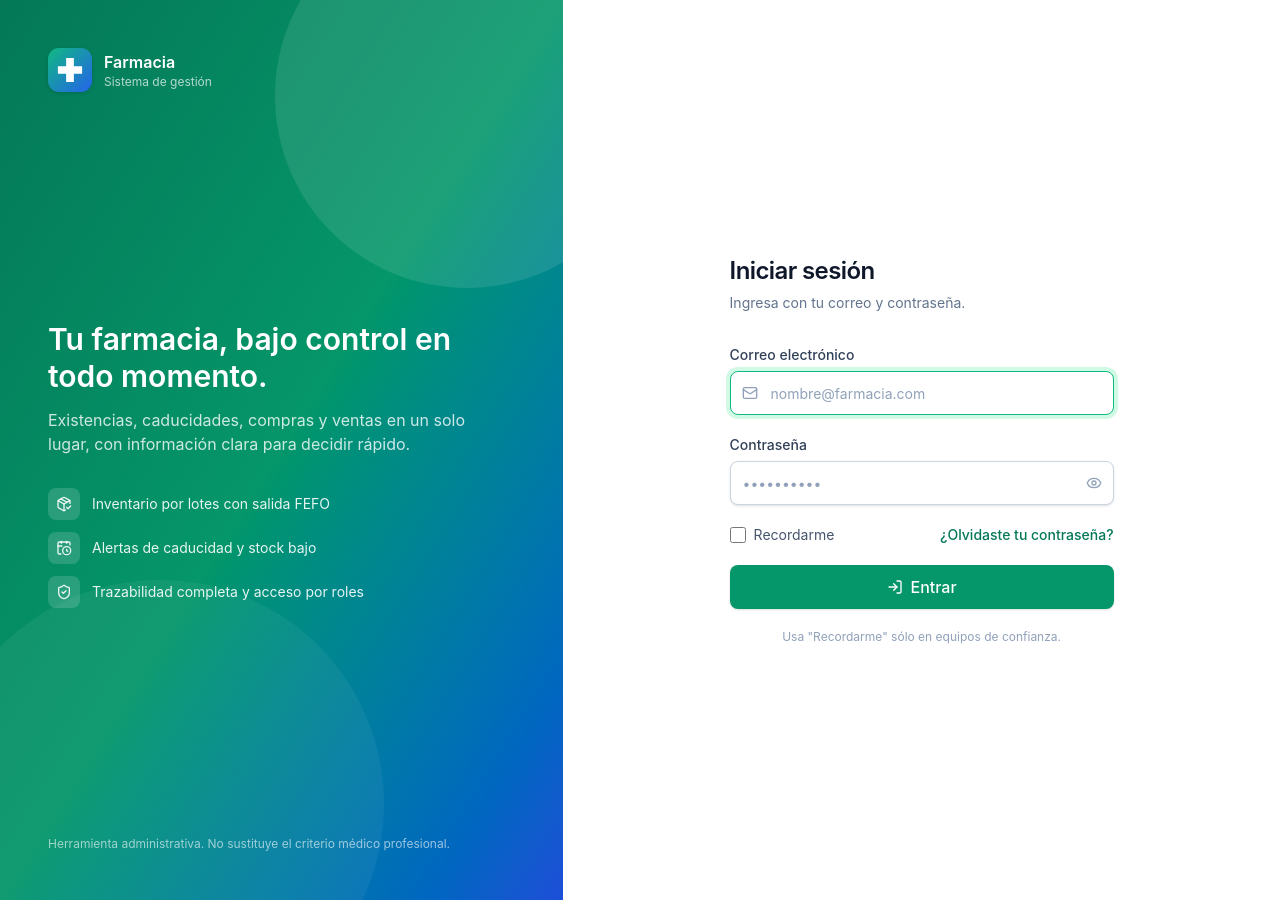
it: LoginPage › muestra el error del servidor ante credenciales incorrectas
Type "doc@test.local" into the field labelled "Correo electrónico" at (922, 393), box [730,371,1114,415]
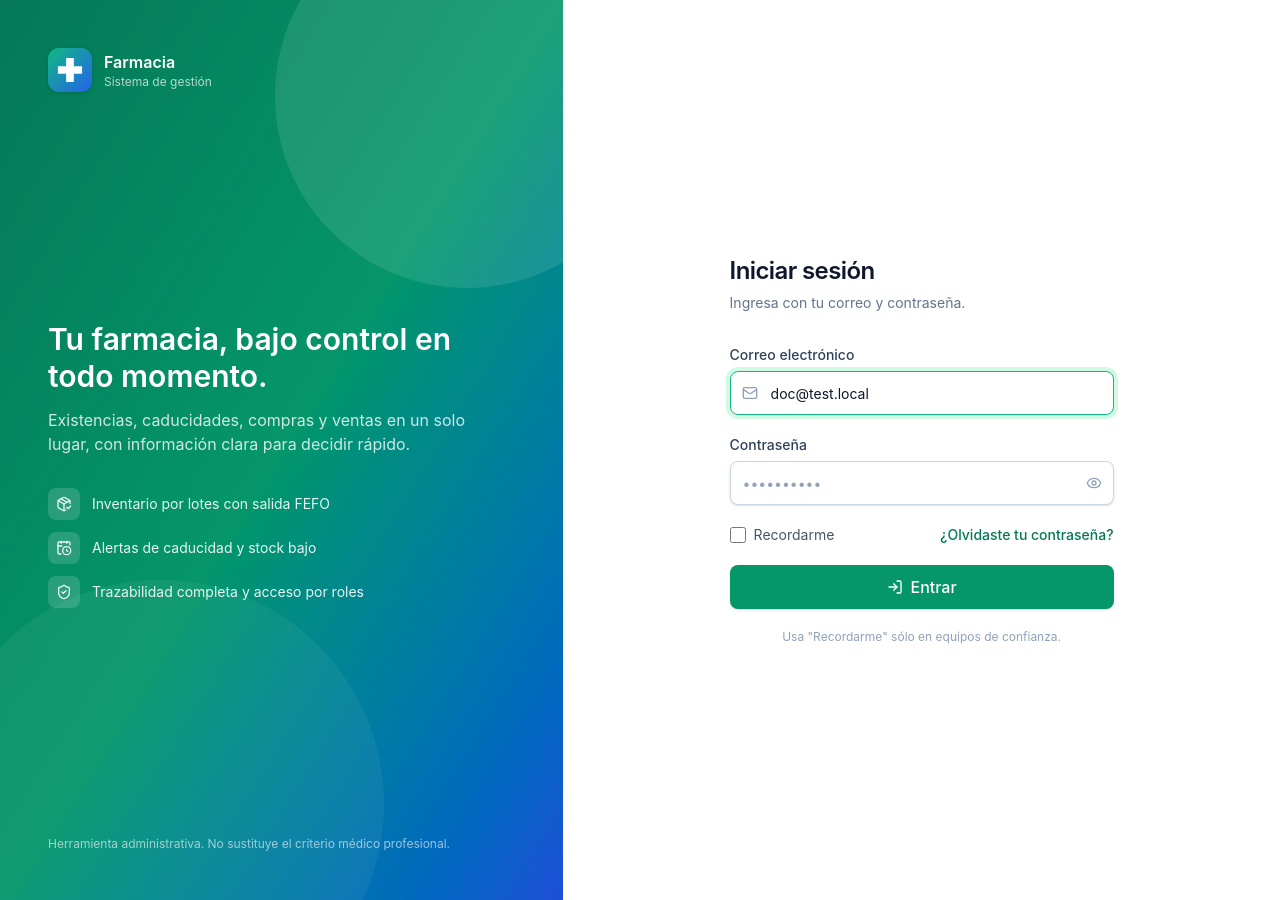
Type "equivocada" into the password field labelled "Contraseña" at (922, 483), box [730,461,1114,505]
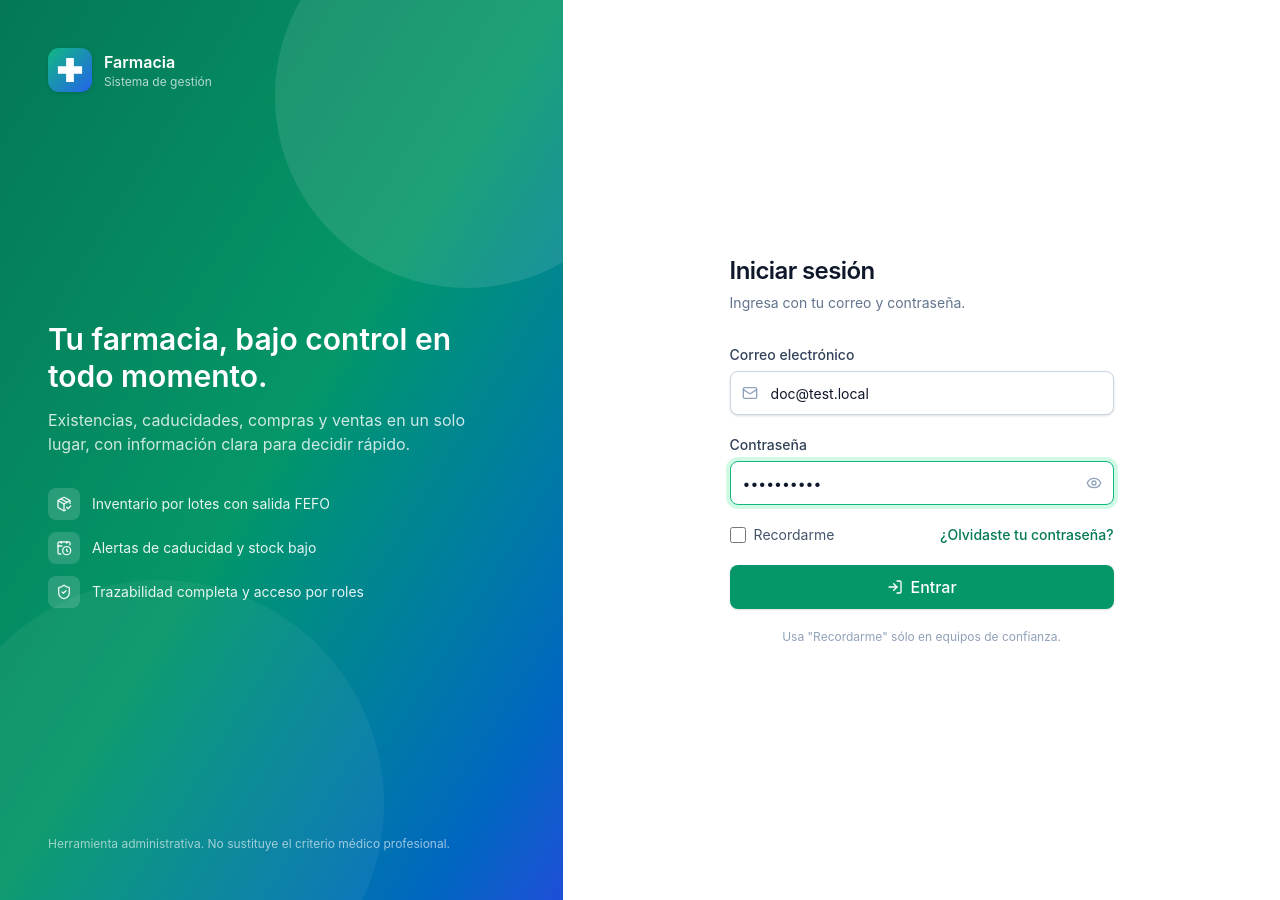
Click the button "Entrar" at (922, 587), box [730,565,1114,609]
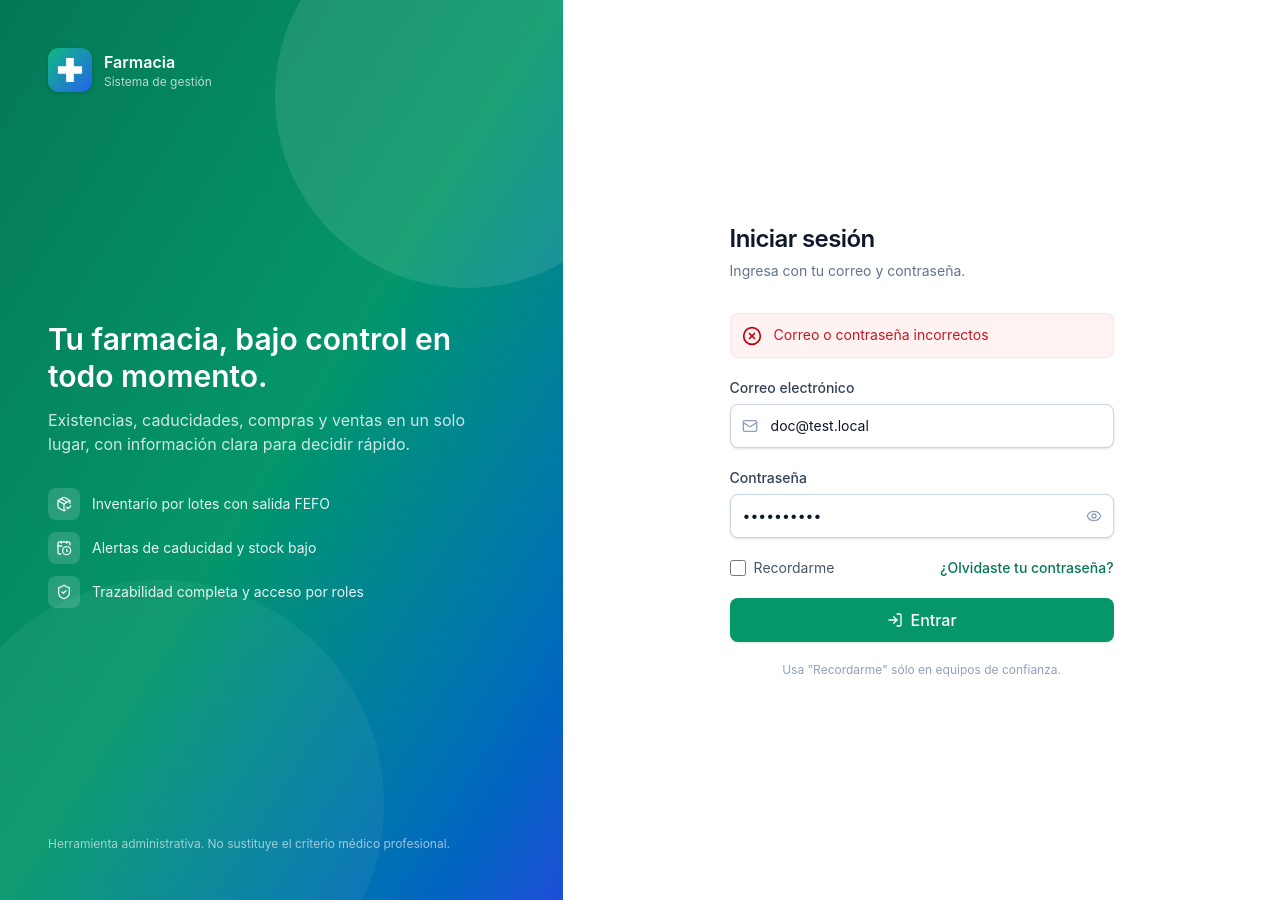
Now the text "Correo o contraseña incorrectos" is shown, box [774,324,989,344]
